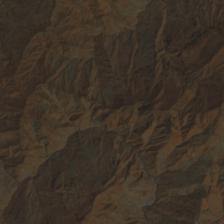landslides: (41, 87, 57, 102)
